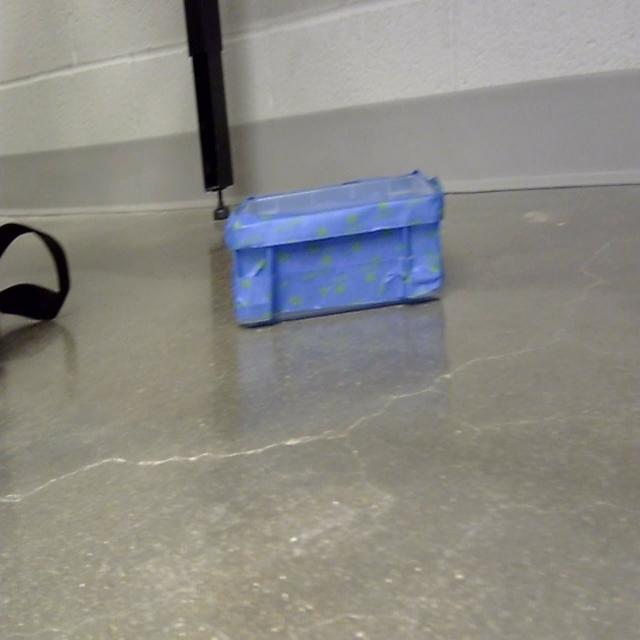bucket: (223, 171, 446, 328)
